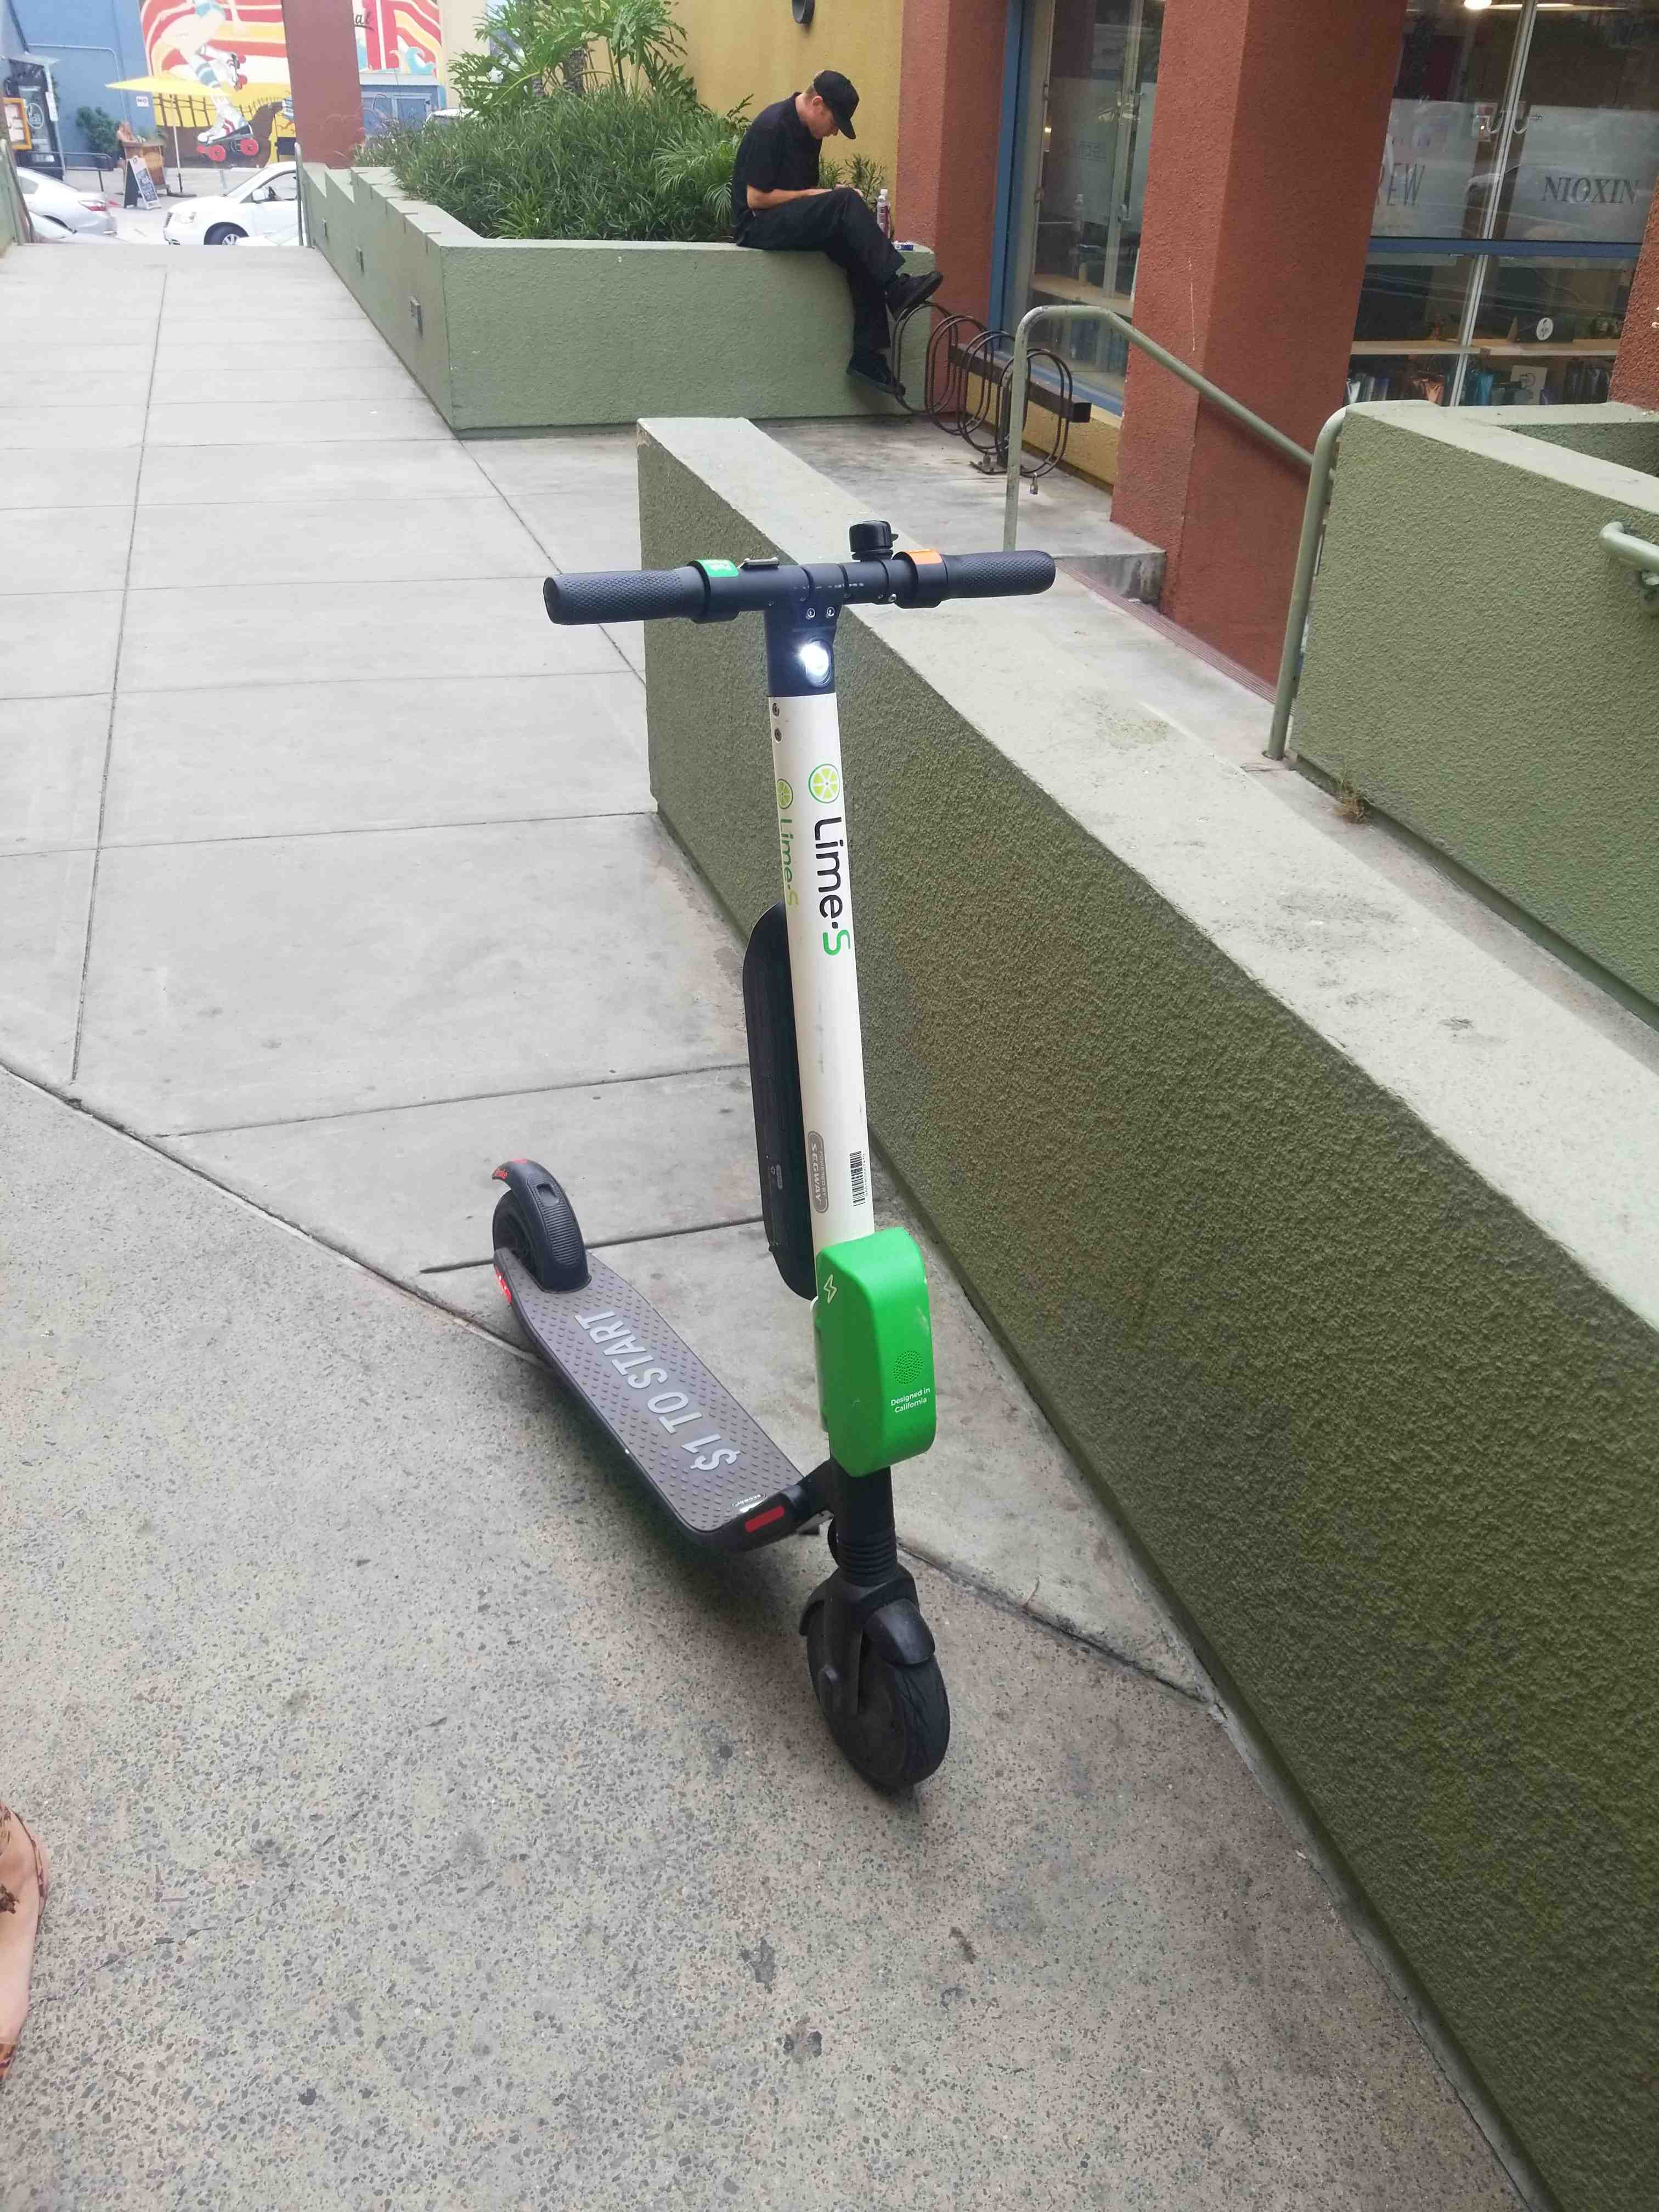scooter: (451, 524, 1044, 1876)
